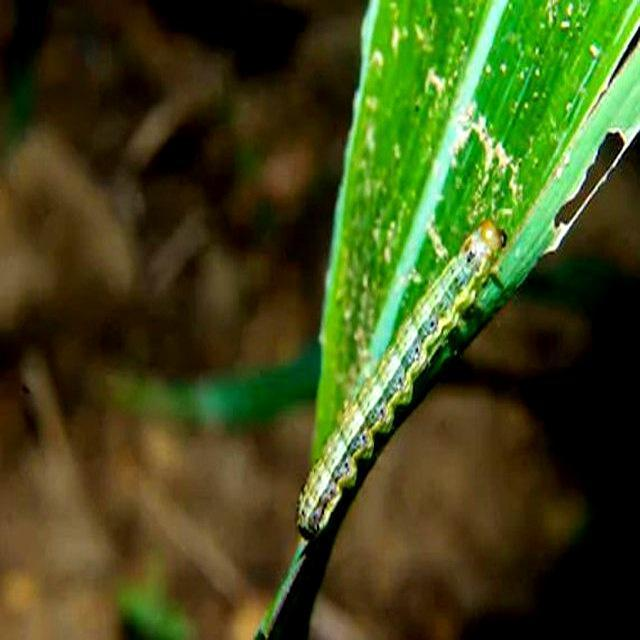gusano_cogollero: (296, 222, 506, 538)
